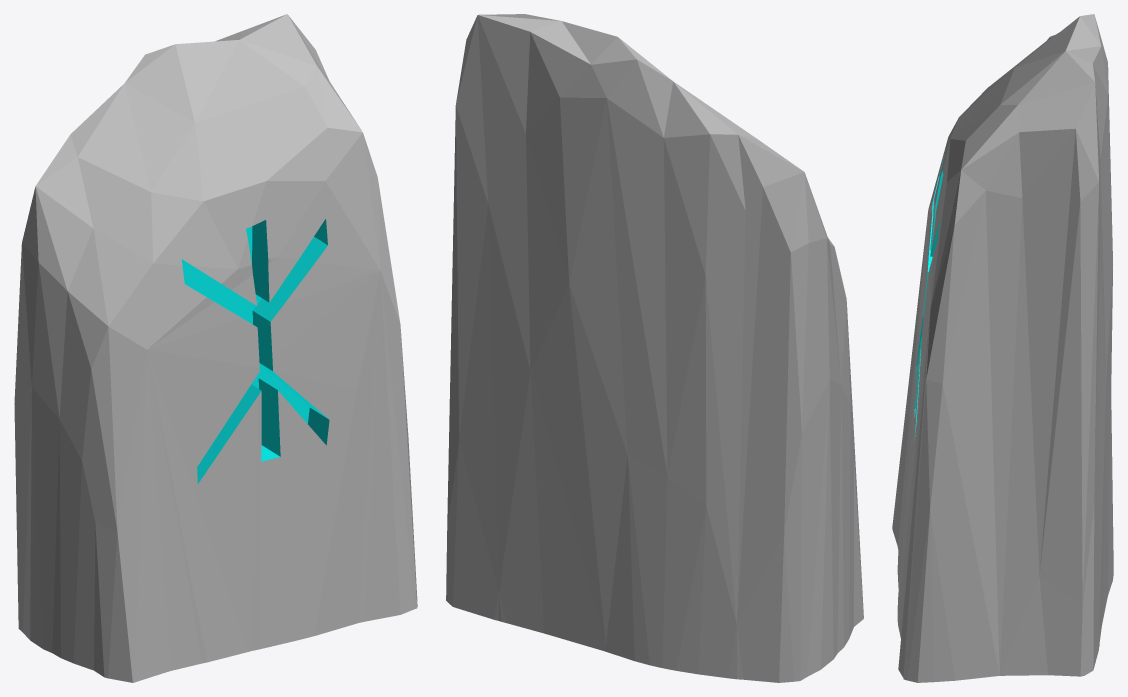
File: Rock_Prop_Tribal_Stone_Altar_Rune_02.FBX
3 views of the same model, side by side, from view 1: azimuth 30°, elevation 25°; view 2: azimuth 150°, elevation 25°; view 3: azimuth 270°, elevation 25° (orthographic). The views are drawn at different scales.
Visible parts, largest first — view 1: Rock_Prop_Tribal_Stone_Altar_Rune_02; view 2: Rock_Prop_Tribal_Stone_Altar_Rune_02; view 3: Rock_Prop_Tribal_Stone_Altar_Rune_02.
Boxes of the visible parts, x1,y1,x2,y2 form: Rock_Prop_Tribal_Stone_Altar_Rune_02: (14, 14, 417, 682); Rock_Prop_Tribal_Stone_Altar_Rune_02: (446, 14, 863, 682); Rock_Prop_Tribal_Stone_Altar_Rune_02: (892, 14, 1113, 682).
Size of the model in its own units: 1397 by 2175 by 753.
